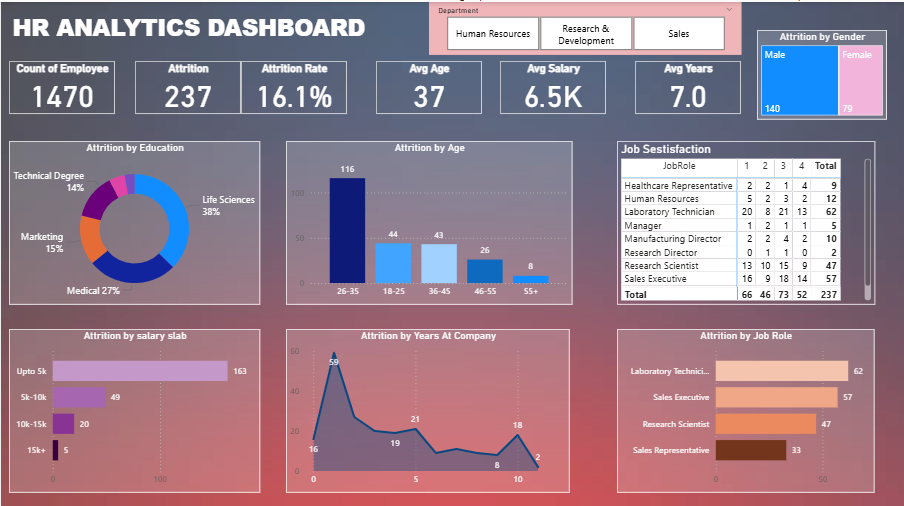

The page's visual inventory and layout, read from the dashboard file:
{"tool":"powerbi","page":{"name":"Page 1","canvas":[1280,720],"ordinal":0},"visuals":[{"type":"card","title":"Count of Employee","fields":{"Values":["CountNonNull(HR_Analytics.EmpID)"]},"box":[10.7,84,150.2,75.1],"z":0},{"type":"card","title":"Attrition","fields":{"Values":["Sum(HR_Analytics.AttritionCount)"]},"box":[189.5,84,150.2,75.1],"z":1000},{"type":"card","title":"Attrition Rate","fields":{"Values":["HR_Analytics.AttritionRate"]},"box":[339.7,84,150.2,75.1],"z":2000},{"type":"card","title":"Avg Age","fields":{"Values":["Avg(HR_Analytics.Age)"]},"box":[530.9,84,150.2,75.1],"z":3000},{"type":"card","title":"Avg Salary","fields":{"Values":["Avg(HR_Analytics.MonthlyIncome)"]},"box":[707.9,84,150.2,75.1],"z":4000},{"type":"card","title":"Avg Years","fields":{"Values":["Avg(HR_Analytics.YearsAtCompany)"]},"box":[899.2,84,150.2,75.1],"z":5000},{"type":"donutChart","title":"Attrition by Education","fields":{"Category":["HR_Analytics.EducationField"],"Y":["Sum(HR_Analytics.AttritionCount)"]},"box":[10.7,196.6,355.8,232.4],"z":6000},{"type":"columnChart","title":"Attrition by Age","fields":{"Category":["HR_Analytics.AgeGroup"],"Y":["Sum(HR_Analytics.AttritionCount)"]},"box":[404,196.6,405.8,232.4],"z":7000},{"type":"pivotTable","title":"Job Sestisfaction","fields":{"Columns":["HR_Analytics.JobSatisfaction"],"Rows":["HR_Analytics.JobRole"],"Values":["Sum(HR_Analytics.AttritionCount)"]},"box":[872.4,196.6,366.5,232.4],"z":8000},{"type":"barChart","title":"Attrition by salary slab","fields":{"Category":["HR_Analytics.SalarySlab"],"Y":["Sum(HR_Analytics.AttritionCount)"]},"box":[10.7,463,355.8,232.4],"z":9000},{"type":"barChart","title":"Attrition by Job Role","fields":{"Category":["HR_Analytics.JobRole"],"Y":["Sum(HR_Analytics.AttritionCount)"]},"box":[872.4,463,364.7,232.4],"z":10000},{"type":"areaChart","title":"Attrition by Years At Company","fields":{"Category":["HR_Analytics.YearsAtCompany"],"Y":["Sum(HR_Analytics.AttritionCount)"]},"box":[404,463,402.2,232.4],"z":11000},{"type":"treemap","title":"Attrition by Gender","fields":{"Group":["HR_Analytics.Gender"],"Values":["Sum(HR_Analytics.AttritionCount)"]},"box":[1070.8,39.3,184.1,126.9],"z":12000},{"type":"slicer","fields":{"Values":["HR_Analytics.Department"]},"box":[606,0,443.4,75.1],"z":12001},{"type":"textbox","box":[10.7,8.9,539.9,59],"z":12002}]}

Visuals, with their boxes in screenshot pixels (x1, y1, x2, y2), scaled from the page's 1280x720 canvas onto the 904x506 screenshot:
"Count of Employee" card: pyautogui.locateOnScreen(8, 59, 114, 112)
"Attrition" card: pyautogui.locateOnScreen(134, 59, 240, 112)
"Attrition Rate" card: pyautogui.locateOnScreen(240, 59, 346, 112)
"Avg Age" card: pyautogui.locateOnScreen(375, 59, 481, 112)
"Avg Salary" card: pyautogui.locateOnScreen(500, 59, 606, 112)
"Avg Years" card: pyautogui.locateOnScreen(635, 59, 741, 112)
"Attrition by Education" donutChart: pyautogui.locateOnScreen(8, 138, 259, 301)
"Attrition by Age" columnChart: pyautogui.locateOnScreen(285, 138, 572, 301)
"Job Sestisfaction" pivotTable: pyautogui.locateOnScreen(616, 138, 875, 301)
"Attrition by salary slab" barChart: pyautogui.locateOnScreen(8, 325, 259, 489)
"Attrition by Job Role" barChart: pyautogui.locateOnScreen(616, 325, 874, 489)
"Attrition by Years At Company" areaChart: pyautogui.locateOnScreen(285, 325, 569, 489)
"Attrition by Gender" treemap: pyautogui.locateOnScreen(756, 28, 886, 117)
slicer - HR_Analytics.Department: pyautogui.locateOnScreen(428, 0, 741, 53)
textbox: pyautogui.locateOnScreen(8, 6, 389, 48)
